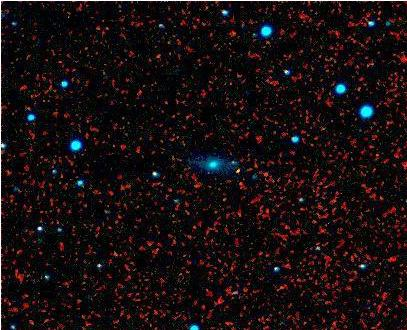star: (222, 156, 252, 186)
